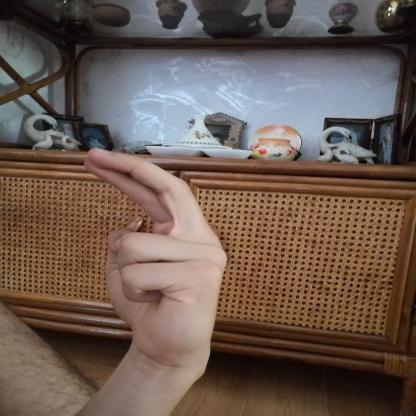ZAY: (68, 138, 240, 378)
